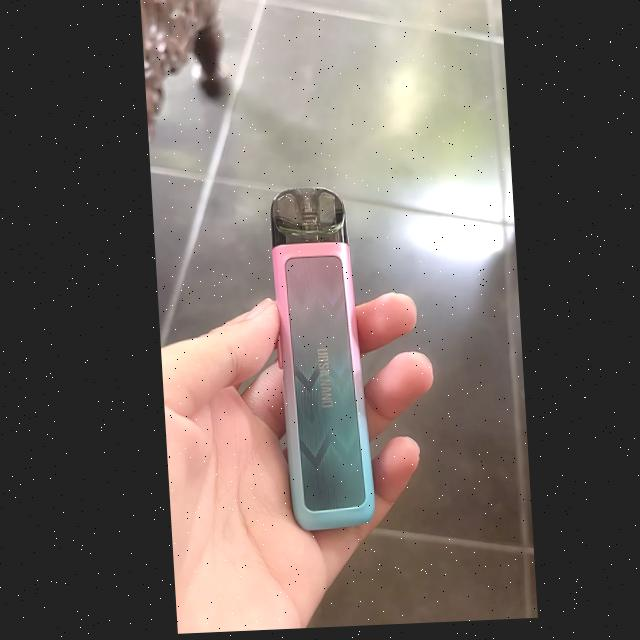vape: (262, 185, 368, 534)
